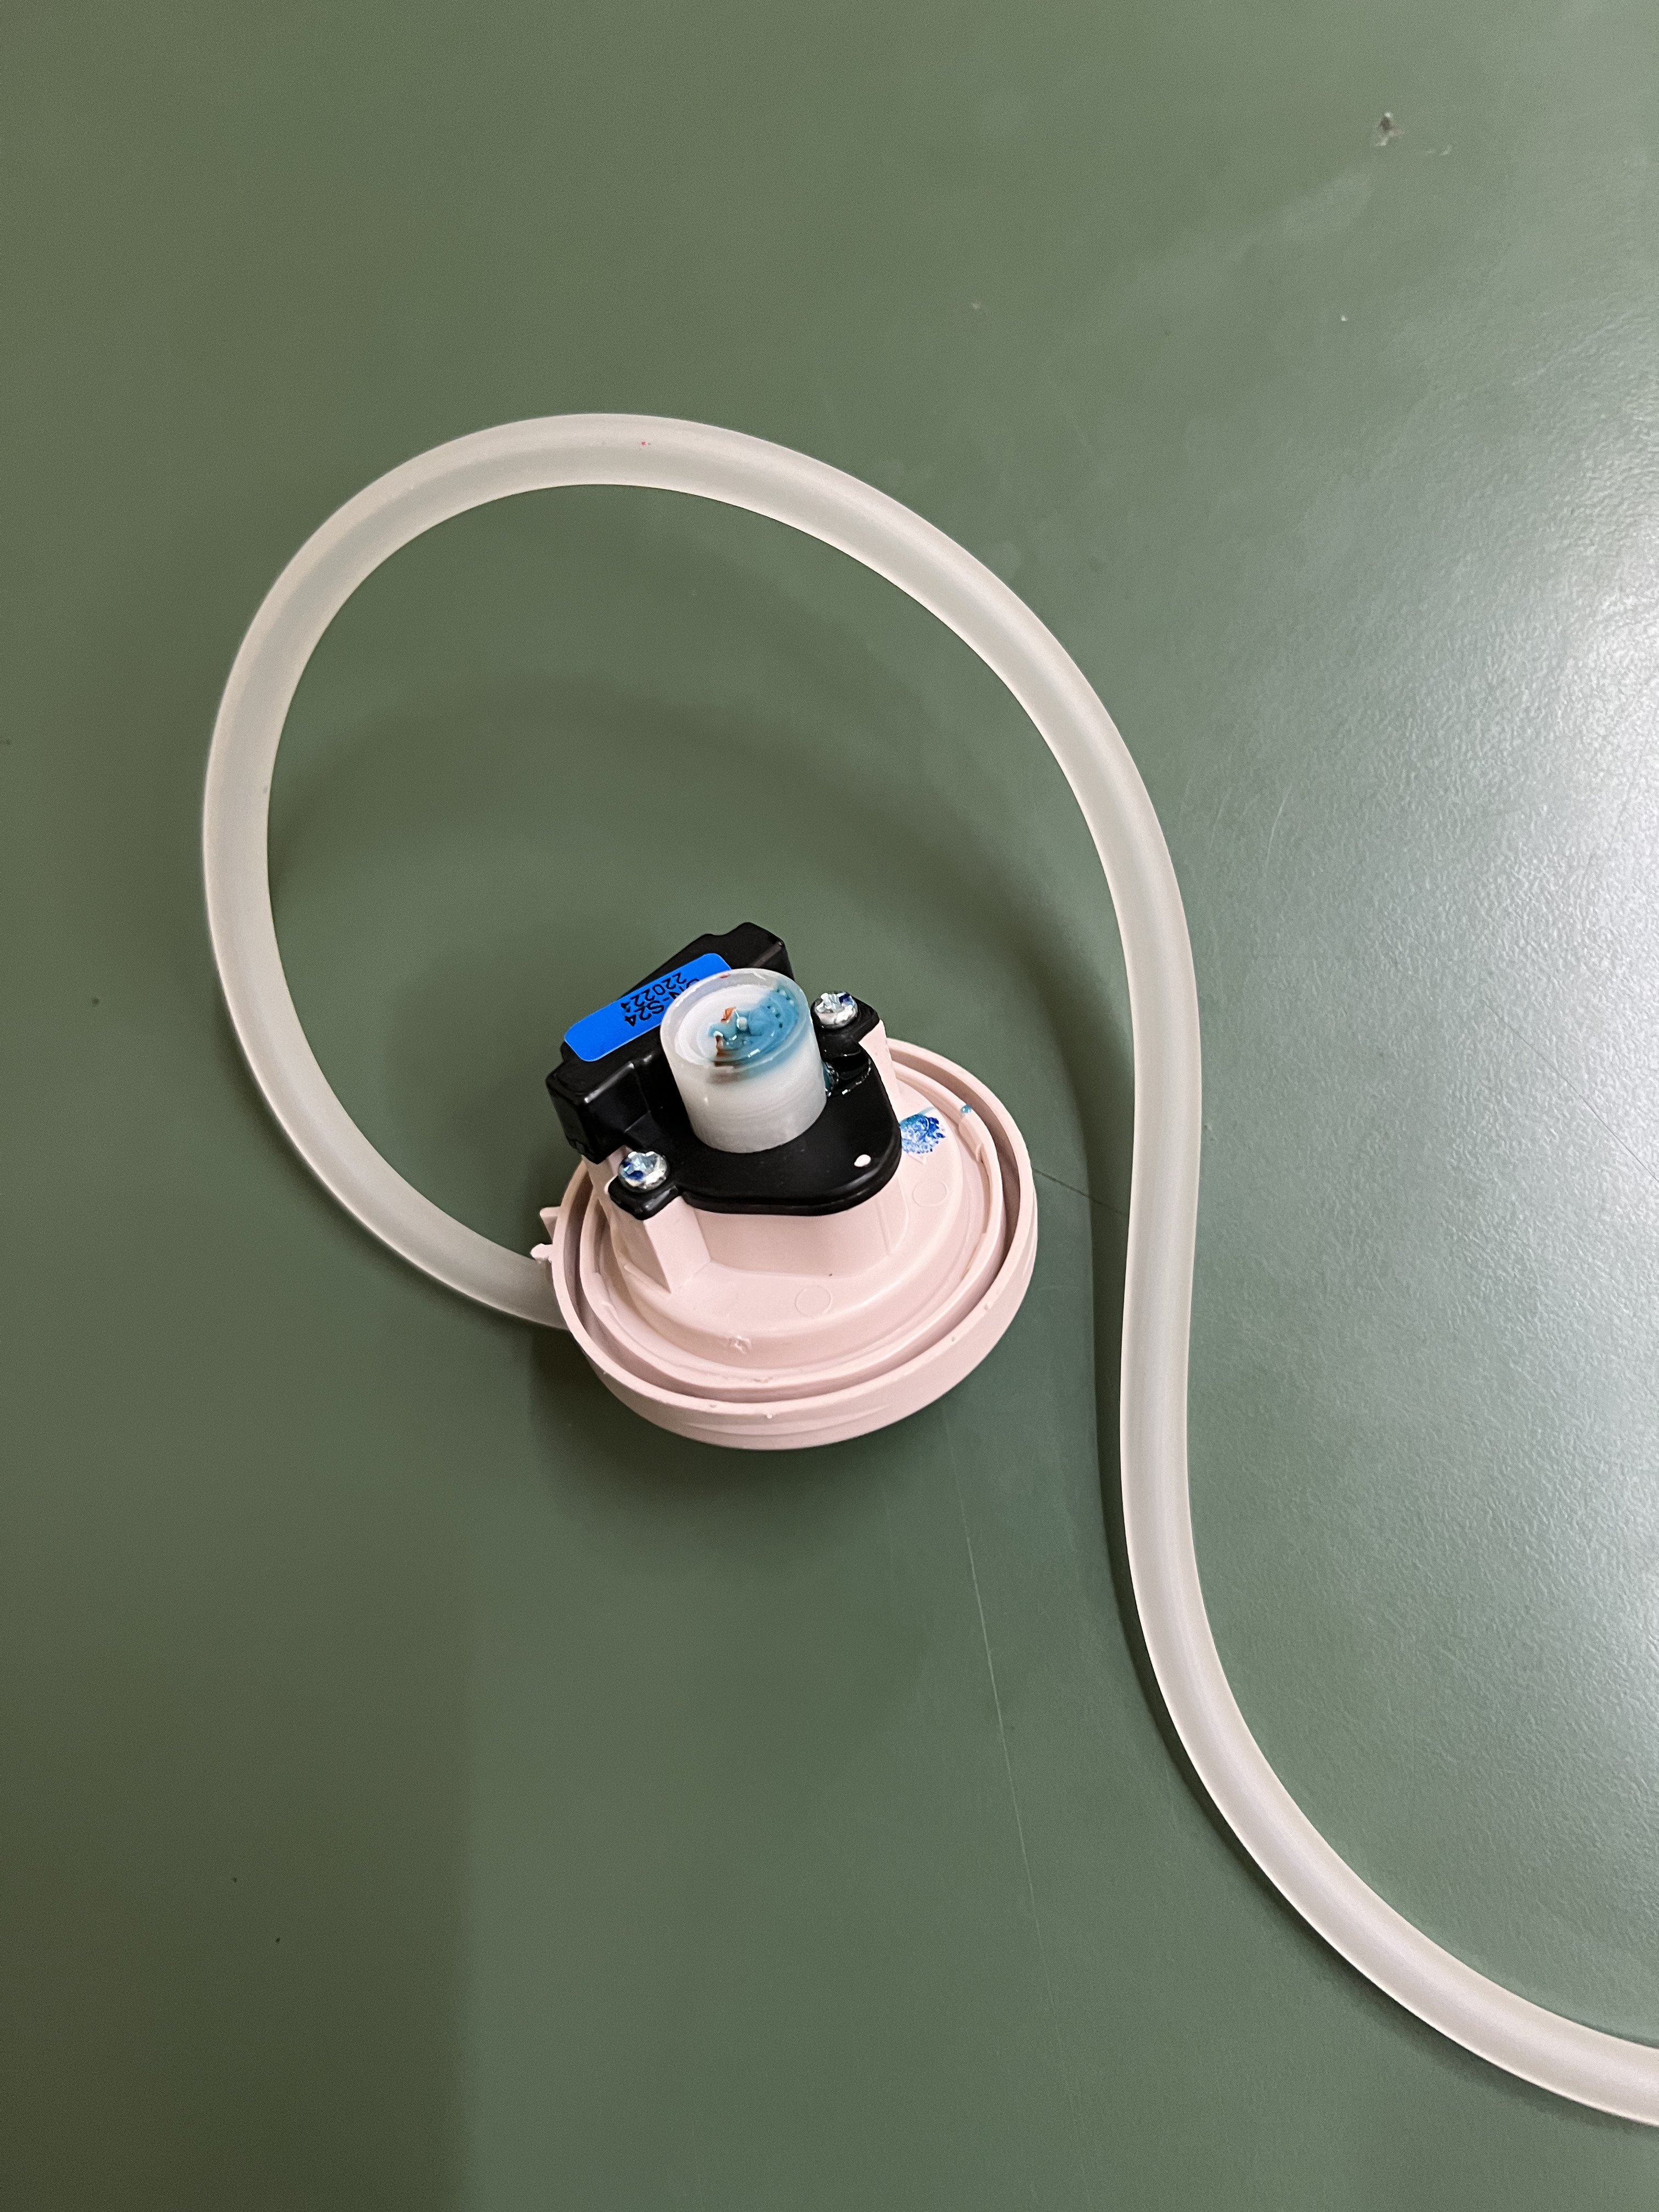pressure_sensor: (378, 900, 1089, 1491)
